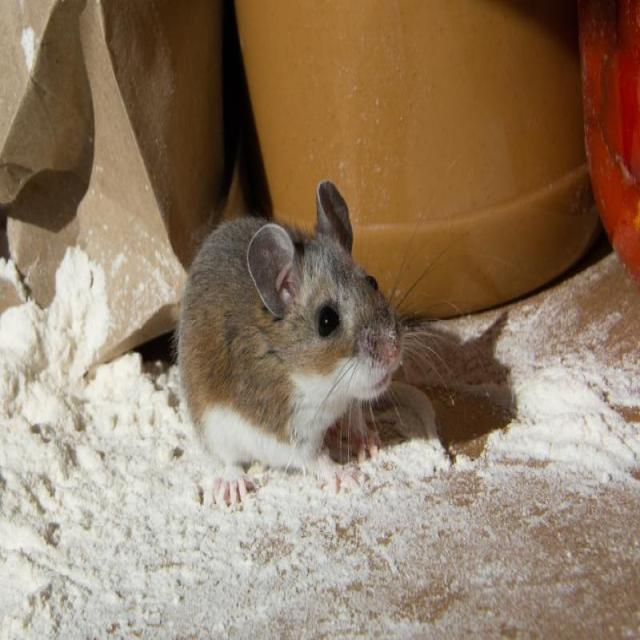rat: (162, 174, 426, 526)
